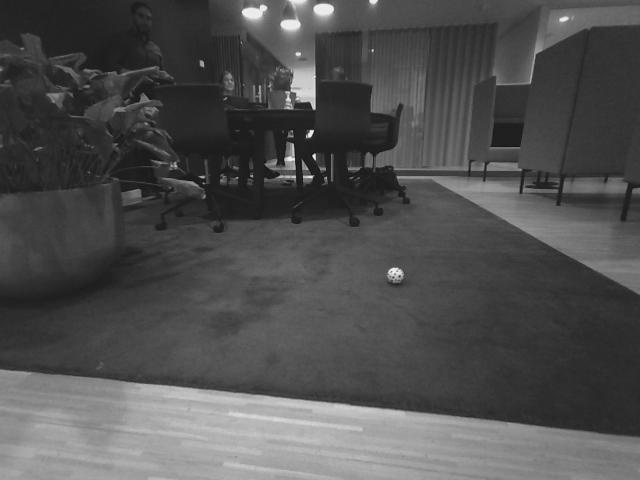dogtoy: (383, 264, 406, 287)
